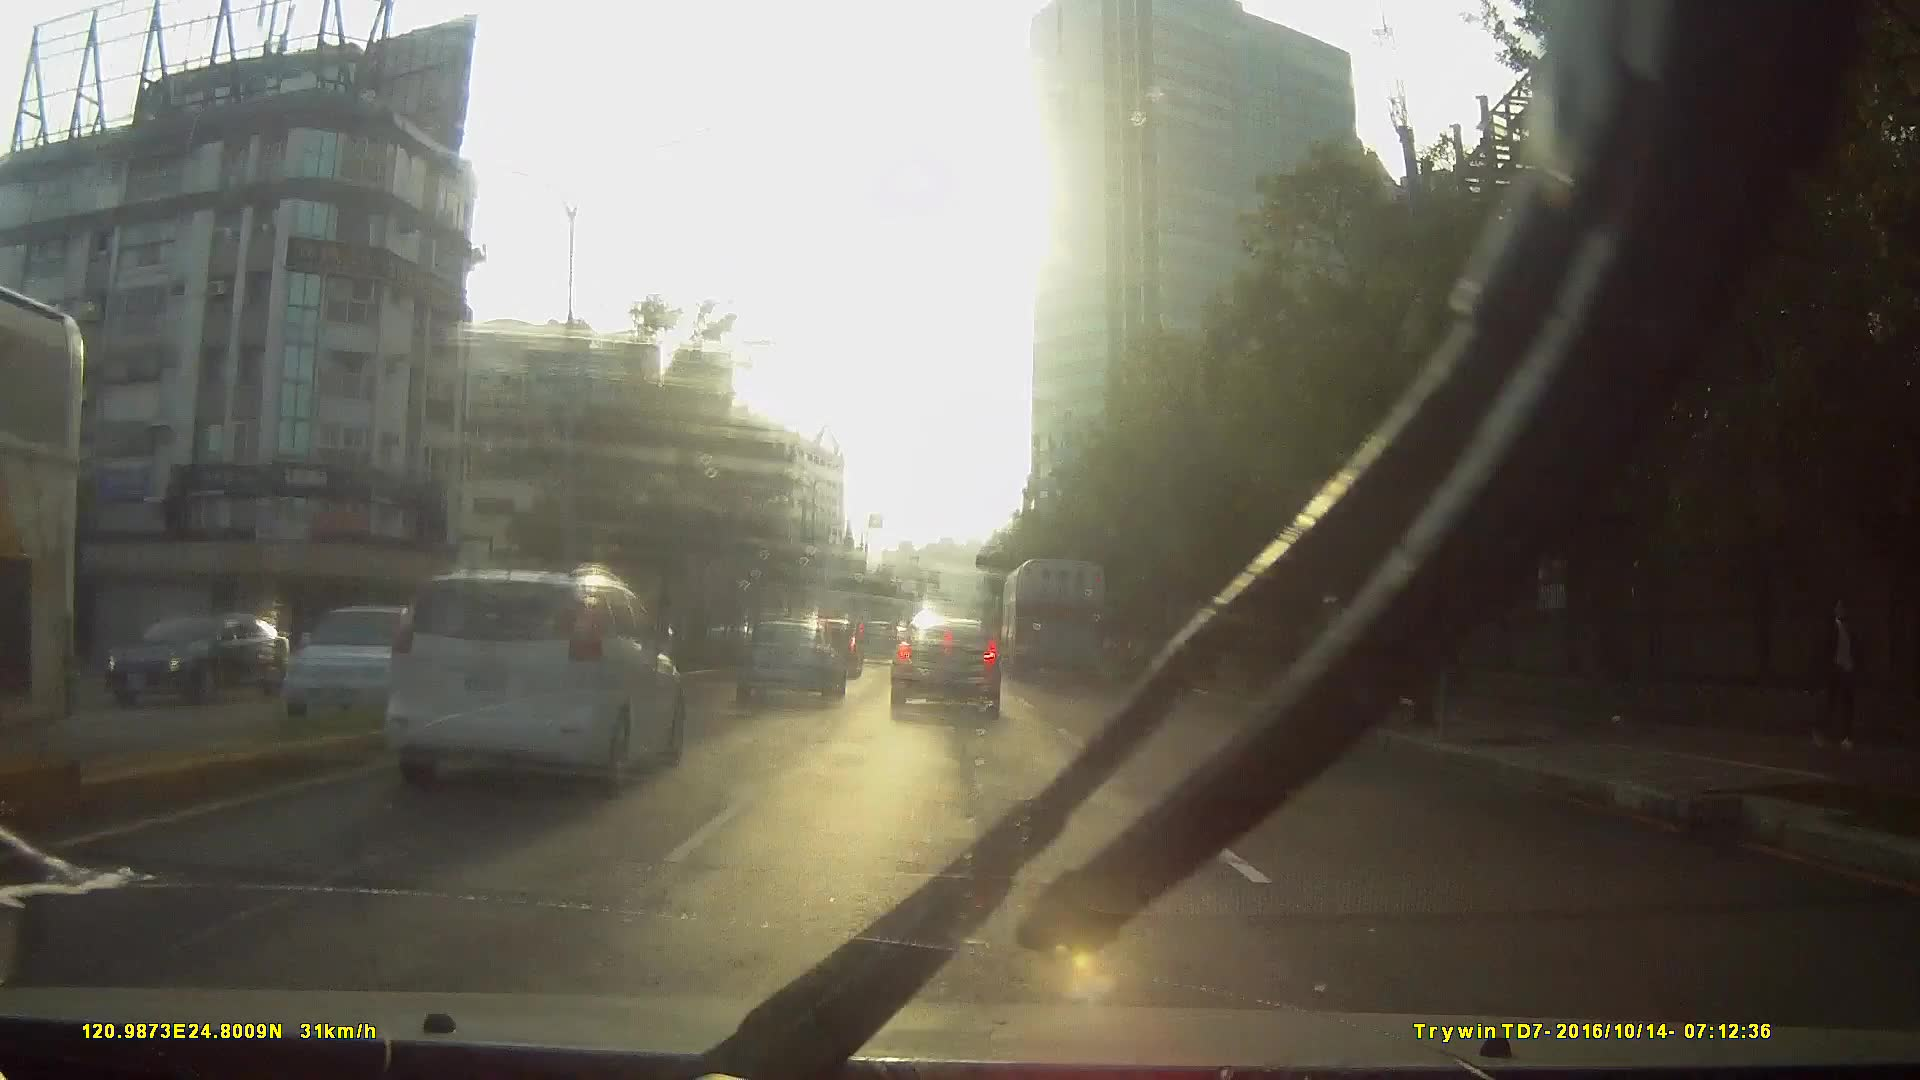pedestrian: (1797, 588, 1882, 757)
vehicle: (250, 556, 684, 868), (380, 560, 681, 788), (264, 597, 468, 730), (99, 611, 295, 707), (1001, 553, 1109, 683), (885, 610, 1001, 716), (729, 613, 841, 699), (852, 615, 901, 664)
